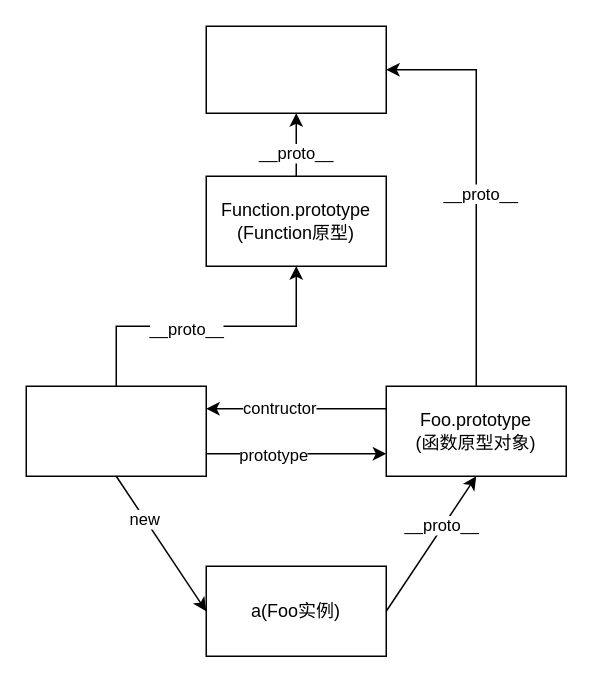
Image size: 593x683. Some labels were removed from this diagram. The shapes that lost their labels are listed below. From the top down, each one's centre as x and y in pixels, then its label:
At (295,69): "Object.prototype (Object原型)".
At (115,430): "Foo(Foo构造函数)".
